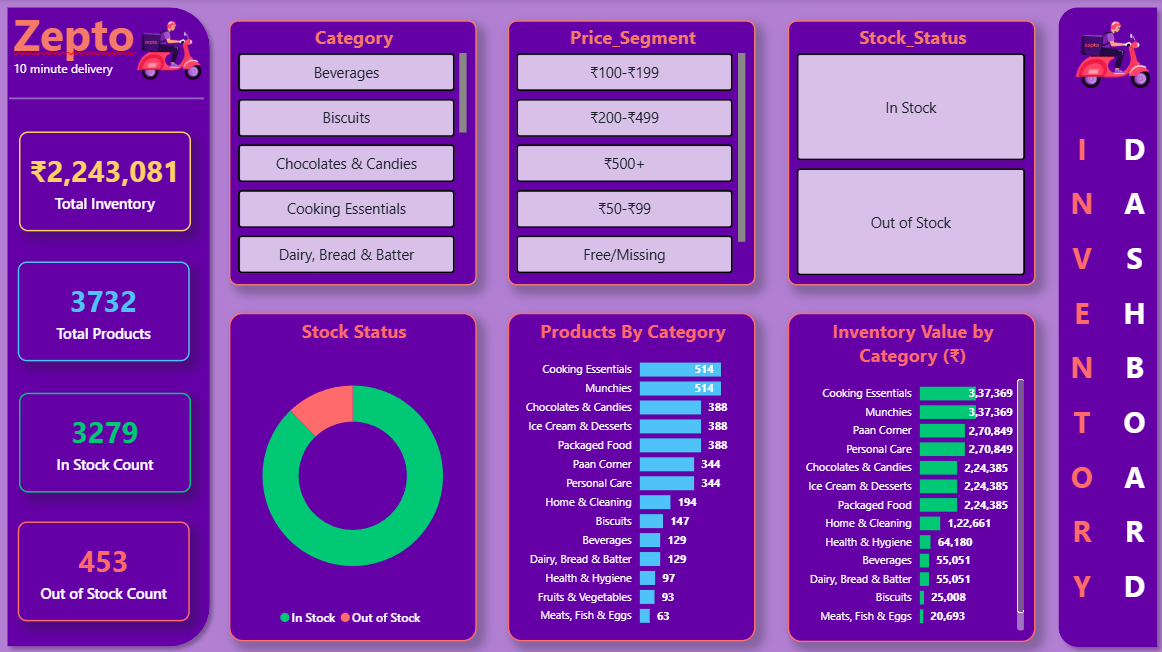

The page's visual inventory and layout, read from the dashboard file:
{"tool":"powerbi","page":{"name":"Home","canvas":[1280,720],"ordinal":0},"visuals":[{"type":"shape","box":[0,0,240.4,719.8],"z":0},{"type":"textbox","box":[11,0,160.5,76.8],"z":1000},{"type":"textbox","box":[11,61.7,126.2,30.2],"z":2000},{"type":"card","fields":{"Values":["_Measures.Total Inventory Value"]},"box":[21.3,145.1,189.2,109.5],"z":3000},{"type":"card","fields":{"Values":["_Measures.Total Products"]},"box":[19.9,288.8,189.2,109.5],"z":4000},{"type":"card","fields":{"Values":["_Measures.In Stock Count"]},"box":[21.3,432.5,189.2,109.5],"z":5000},{"type":"card","fields":{"Values":["_Measures.Out of Stock Count"]},"box":[19.9,573.3,189.2,109.5],"z":6000},{"type":"image","box":[148.2,23.3,76.8,68.6],"z":7000},{"type":"shape","box":[11,91.9,214.1,34.3],"z":8000},{"type":"advancedSlicerVisual","fields":{"Values":["Inventory_Data.Category"]},"box":[252.5,23.3,271.7,290.9],"z":9000},{"type":"advancedSlicerVisual","fields":{"Values":["Inventory_Data.Price_Segment"]},"box":[558.5,23.3,271.7,290.9],"z":10000},{"type":"advancedSlicerVisual","fields":{"Values":["Inventory_Data.Stock_Status"]},"box":[865.9,23.3,271.7,290.9],"z":11000},{"type":"donutChart","title":"Stock Status","fields":{"Y":["CountNonNull(Inventory_Data.Product_Name)"],"Category":["Inventory_Data.Stock_Status"]},"box":[252.5,344.4,271.7,360.9],"z":12000},{"type":"clusteredBarChart","title":"Products By Category","fields":{"Category":["Inventory_Data.Category"],"Y":["CountNonNull(Inventory_Data.Product_Name)"]},"box":[558,344,272,361],"z":13000},{"type":"clusteredBarChart","title":"Inventory Value by Category (₹)","fields":{"Category":["Category_Summary.Category"],"Y":["Sum(Category_Summary.Total_Inventory_Value_INR)"]},"box":[866.3,344.3,271.7,361.3],"z":14000},{"type":"shape","box":[1153.7,0,126.6,719.8],"z":15000},{"type":"textbox","box":[1180.7,88.2,72.5,617.4],"z":16000},{"type":"image","box":[1165.1,22.8,115.2,78.2],"z":17000}]}

Visuals, with their boxes in screenshot pixels (x1, y1, x2, y2), scaled from the page's 1280x720 canvas onto the 1162x652 screenshot:
shape: (0, 0, 218, 651)
textbox: (10, 0, 156, 70)
textbox: (10, 56, 125, 83)
card - _Measures.Total Inventory Value: (19, 131, 191, 231)
card - _Measures.Total Products: (18, 262, 190, 361)
card - _Measures.In Stock Count: (19, 392, 191, 491)
card - _Measures.Out of Stock Count: (18, 519, 190, 618)
image: (135, 21, 204, 83)
shape: (10, 83, 204, 114)
advancedSlicerVisual - Inventory_Data.Category: (229, 21, 476, 285)
advancedSlicerVisual - Inventory_Data.Price_Segment: (507, 21, 754, 285)
advancedSlicerVisual - Inventory_Data.Stock_Status: (786, 21, 1033, 285)
"Stock Status" donutChart: (229, 312, 476, 639)
"Products By Category" clusteredBarChart: (507, 312, 753, 638)
"Inventory Value by Category (₹)" clusteredBarChart: (786, 312, 1033, 639)
shape: (1047, 0, 1161, 651)
textbox: (1072, 80, 1138, 639)
image: (1058, 21, 1161, 91)
